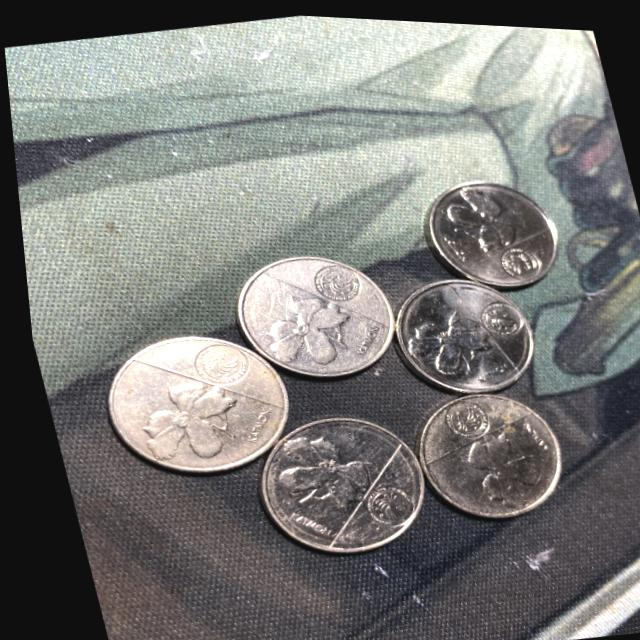25Cent_New_Back: (396, 377, 562, 519), (118, 362, 263, 478), (246, 418, 383, 524), (235, 282, 370, 379), (381, 280, 495, 386), (420, 171, 520, 255)
